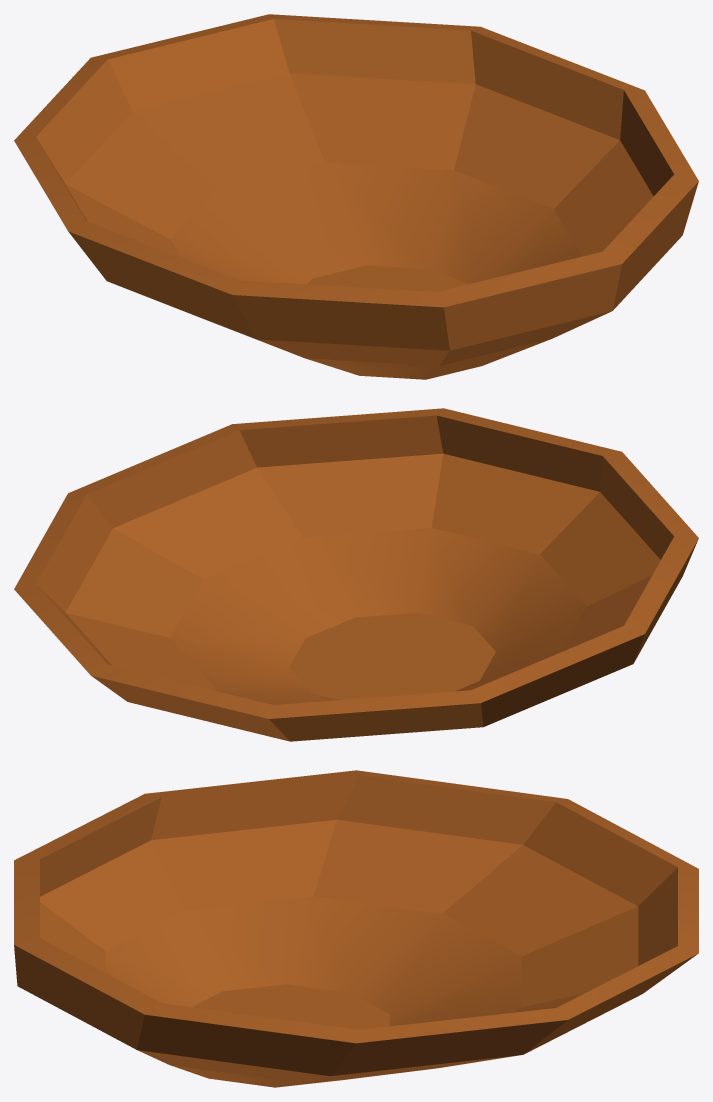
File: SM_bowl_03.FBX
The picture shows the model from 3 angles, top to bottom: view 1: azimuth 30°, elevation 25°; view 2: azimuth 150°, elevation 25°; view 3: azimuth 270°, elevation 25°; orthographic projection. The views are drawn at different scales.
Visible parts, largest first — view 1: Cylinder024; view 2: Cylinder024; view 3: Cylinder024.
Part boxes in pixels (box(x1,y1,x2,y2)): Cylinder024: box(14, 14, 698, 379); Cylinder024: box(14, 408, 698, 741); Cylinder024: box(14, 770, 698, 1087).
Bounding box in the file's own units: 66.32 × 16.68 × 70.32.
